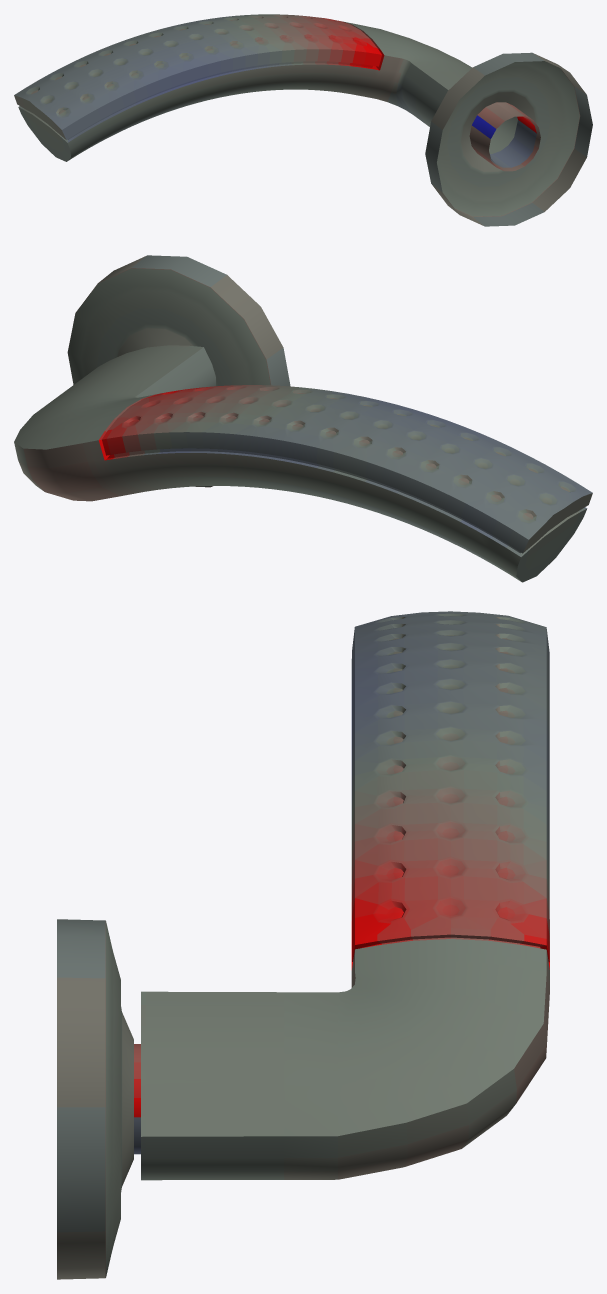
File: Handle01.fbx
3 renders of one model, top to bottom at view 1: azimuth 30°, elevation 25°; view 2: azimuth 150°, elevation 25°; view 3: azimuth 270°, elevation 25°, orthographic. The views are drawn at different scales.
Parts seen in each view (by area): view 1: Handle01; view 2: Handle01; view 3: Handle01.
Boxes of the visible parts, x1=… form: Handle01: x1=14, y1=14, x2=592, y2=226; Handle01: x1=14, y1=255, x2=592, y2=582; Handle01: x1=57, y1=611, x2=549, y2=1279.
Size of the model in its own units: 15.35 by 5.44 by 7.14.
